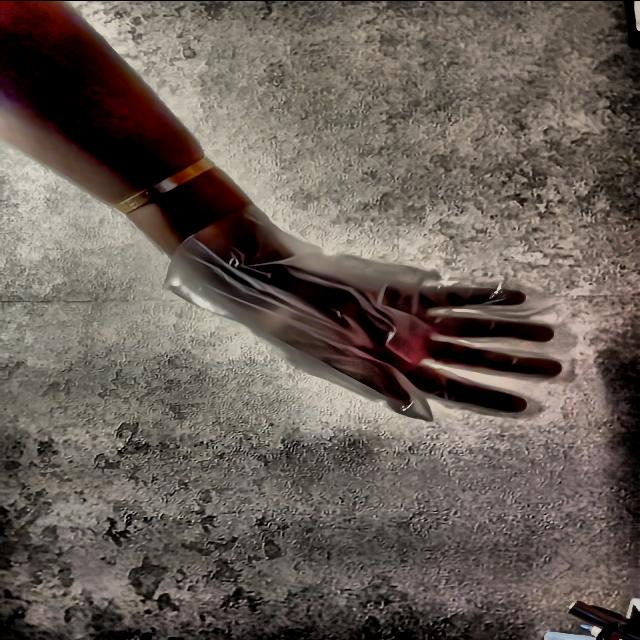gloved: (78, 195, 582, 461)
